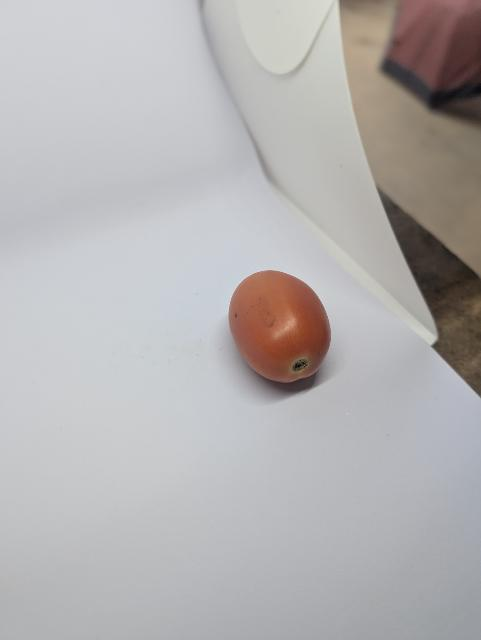red: (218, 265, 341, 392)
